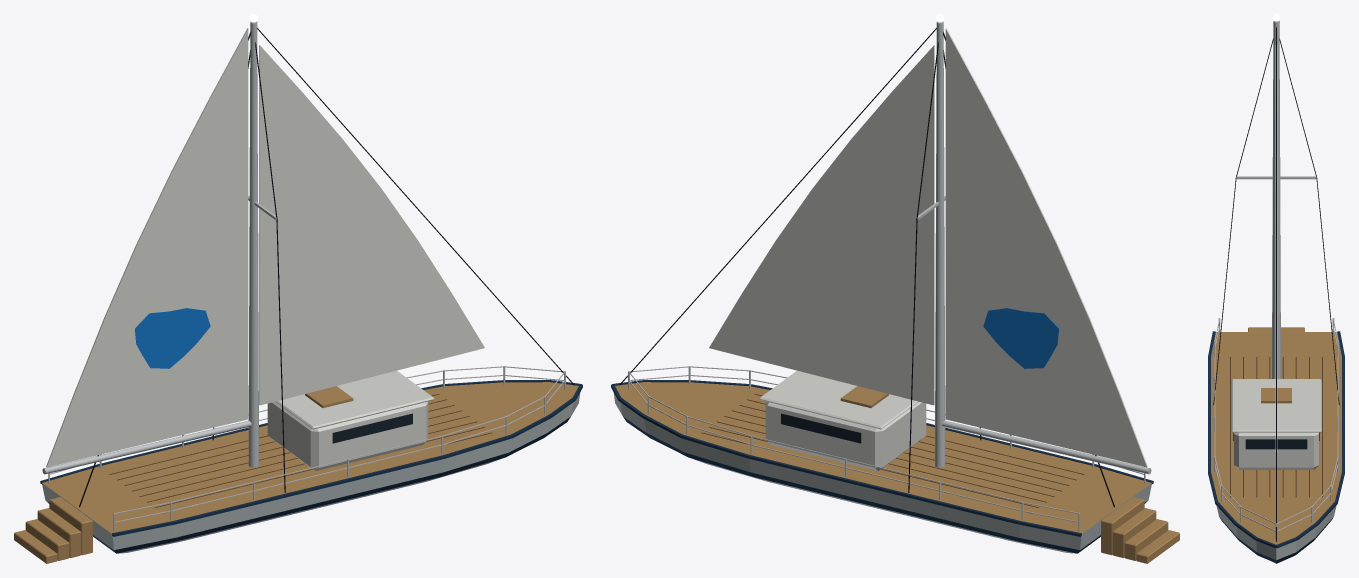
File: tf-boat.glb
The picture shows the model from 3 angles, left to right: view 1: azimuth 30°, elevation 25°; view 2: azimuth 150°, elevation 25°; view 3: azimuth 270°, elevation 25°; orthographic projection. The views are drawn at different scales.
Parts seen in each view (by area): view 1: tf-boat; view 2: tf-boat; view 3: tf-boat.
Part boxes in pixels (<box>): tf-boat: <box>14,14,582,563</box>; tf-boat: <box>611,14,1179,563</box>; tf-boat: <box>1208,14,1344,563</box>.
Bounding box in the file's own units: 23.44 × 19.61 × 5.78.
